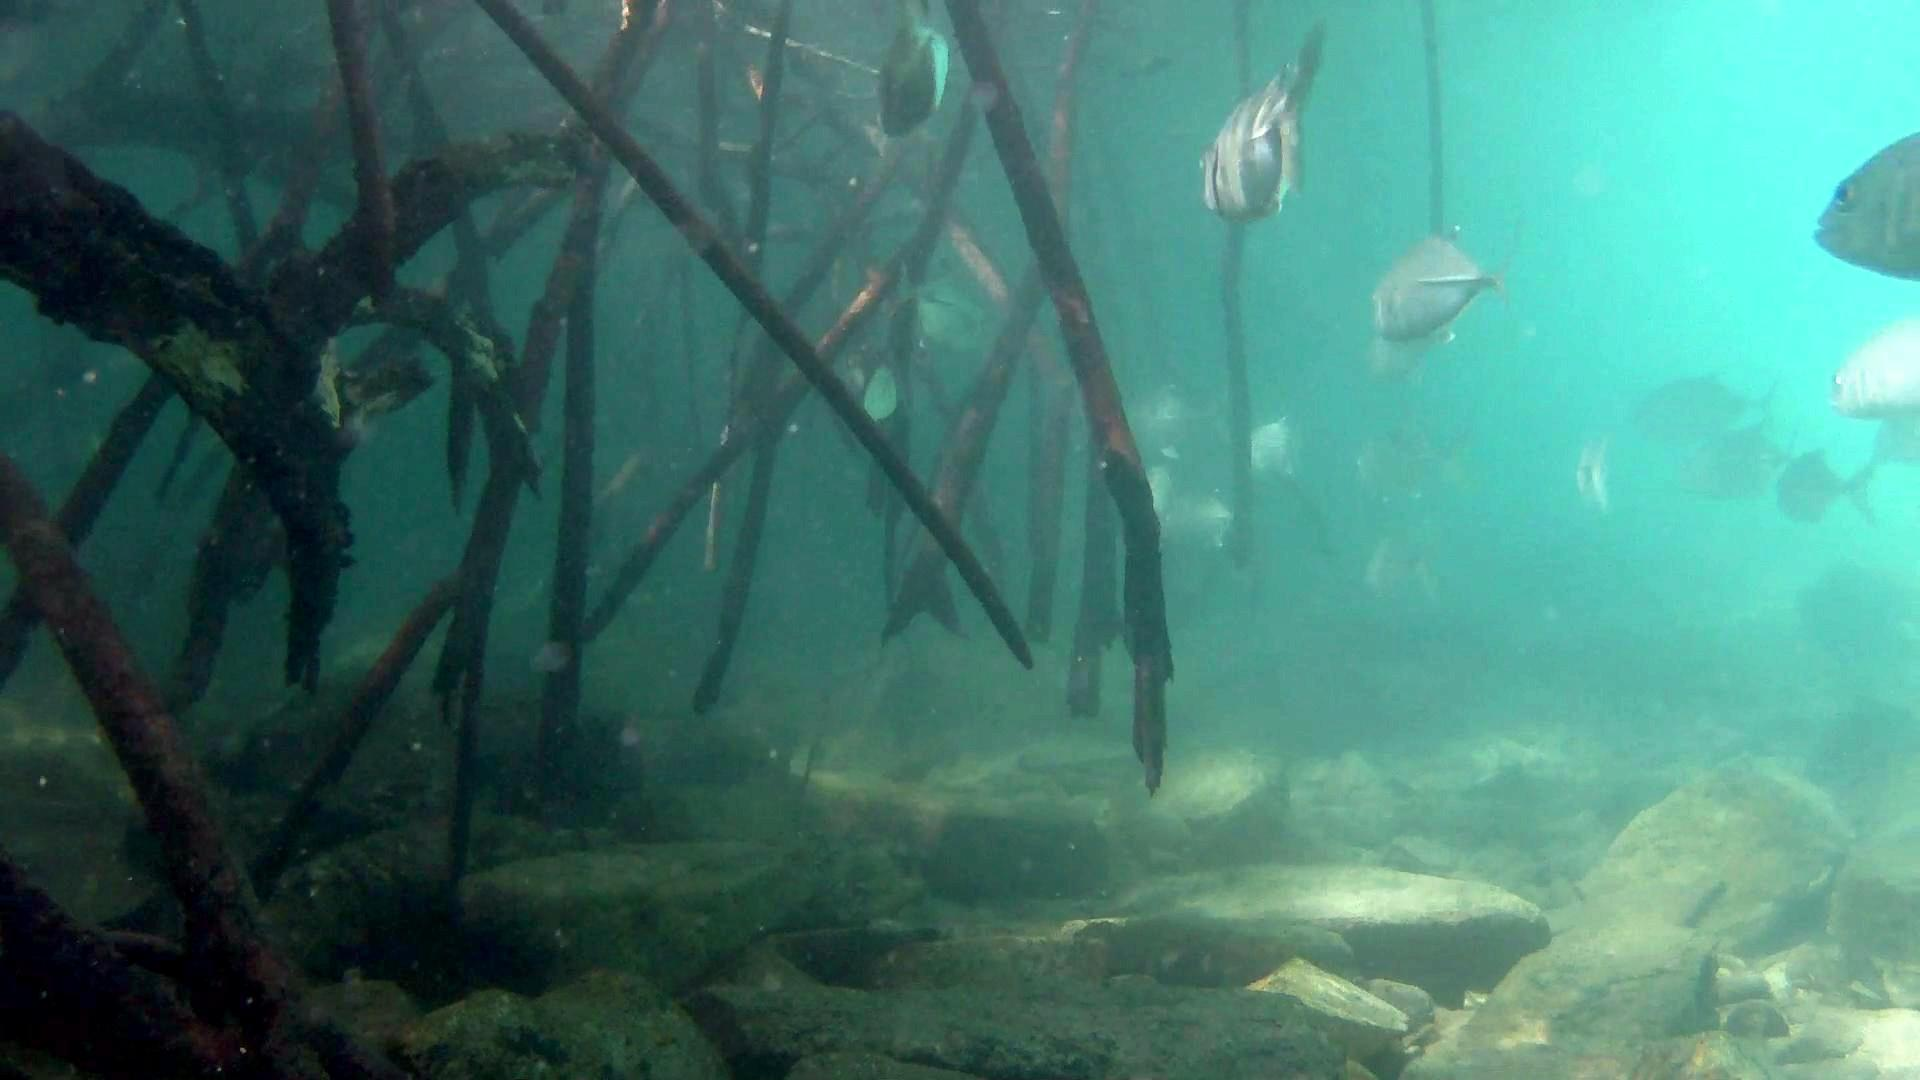caranx: (1196, 20, 1328, 232), (1358, 225, 1556, 356), (1785, 128, 1920, 291)
